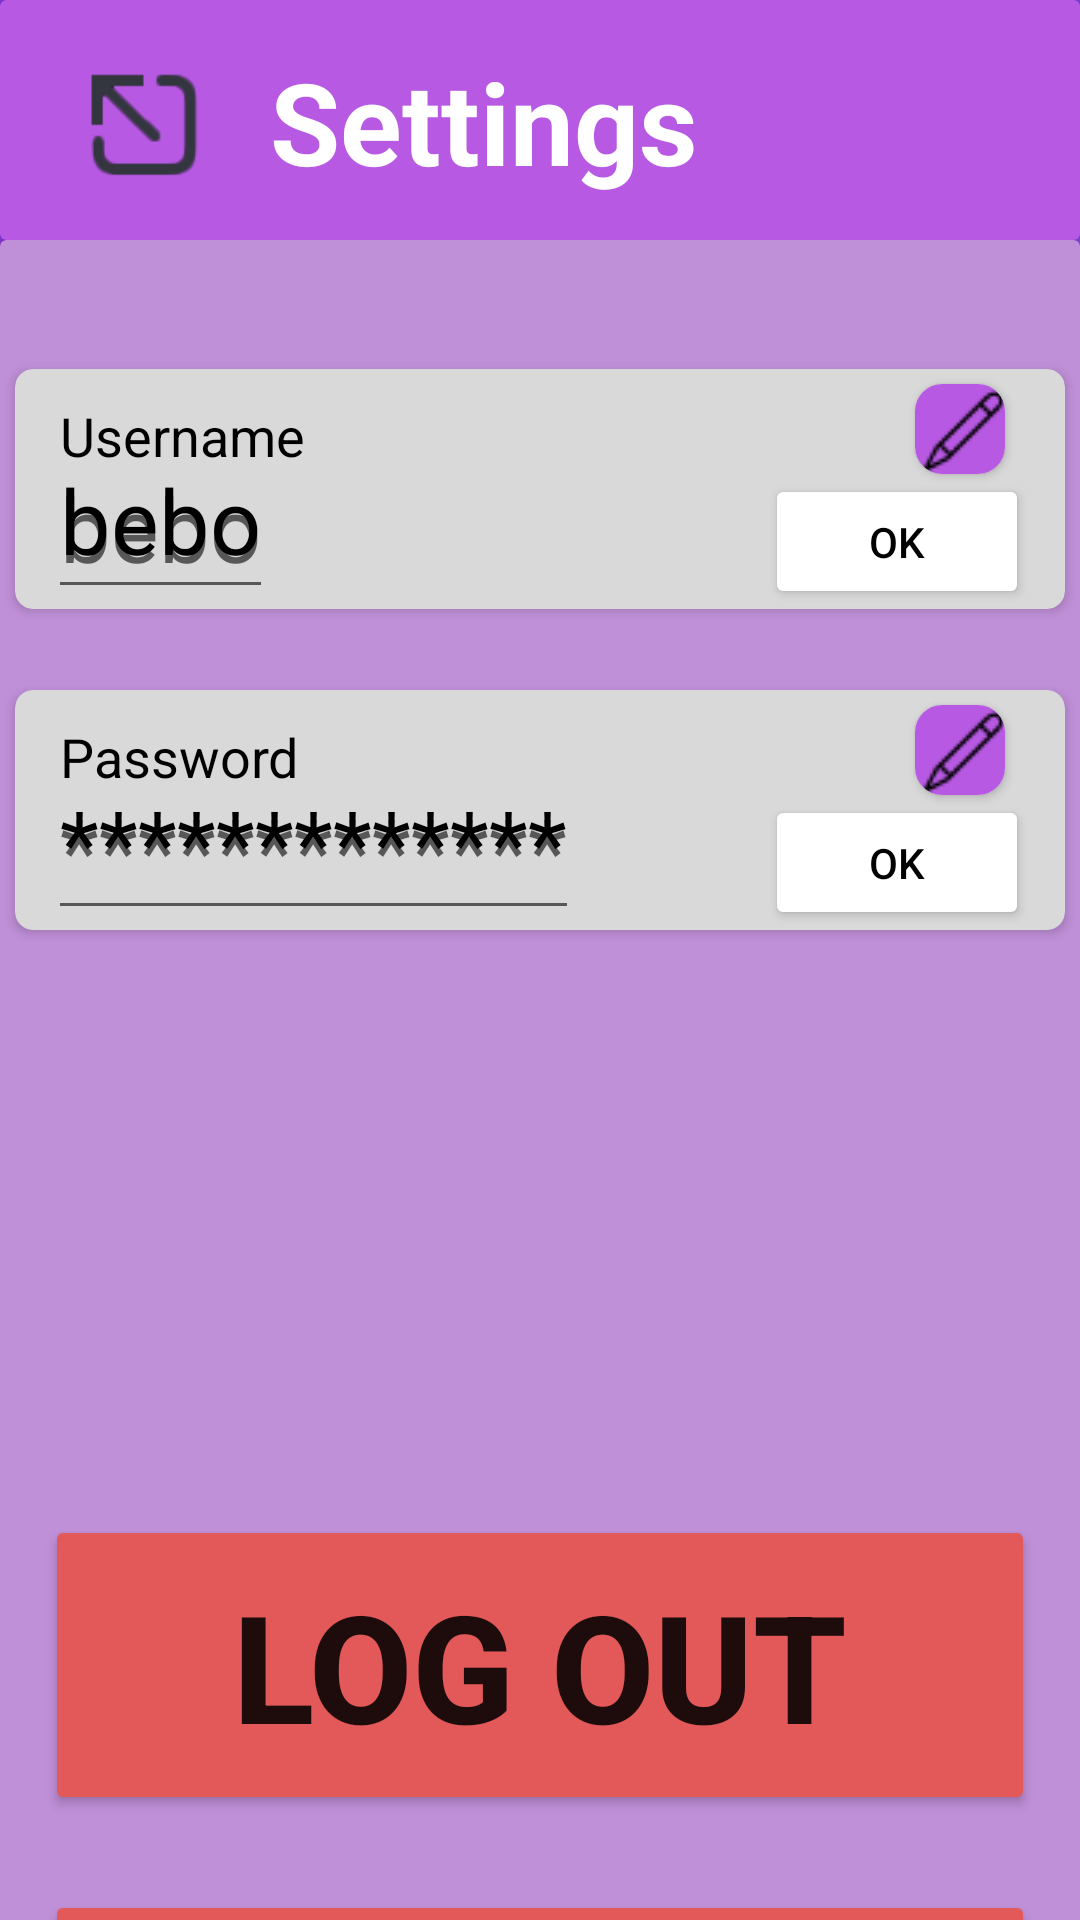

Icon click points for this 1080w x 1920h phone screenshot, format [x,y]:
out: [144,124]
pencil: [960,429], [960,750]
